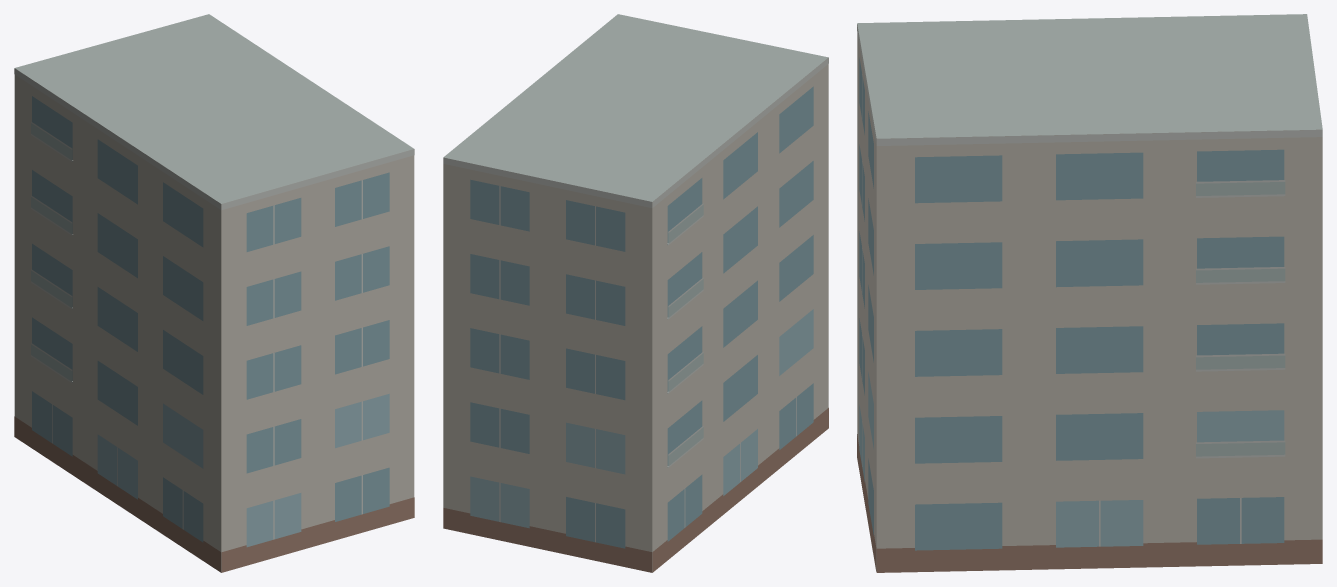
The model's file is survey-upis-32953517.glb.
3 views of the same model, side by side, from view 1: azimuth 30°, elevation 25°; view 2: azimuth 150°, elevation 25°; view 3: azimuth 270°, elevation 25° (orthographic). The views are drawn at different scales.
Visible parts, largest first — view 1: survey-upis-32953517.tmp; view 2: survey-upis-32953517.tmp; view 3: survey-upis-32953517.tmp.
Boxes of the visible parts, bbox=[...] form: survey-upis-32953517.tmp: bbox=[14, 14, 414, 572]; survey-upis-32953517.tmp: bbox=[443, 14, 828, 572]; survey-upis-32953517.tmp: bbox=[857, 14, 1322, 572].
Size of the model in its own units: 8.85 by 14.35 by 13.96.
